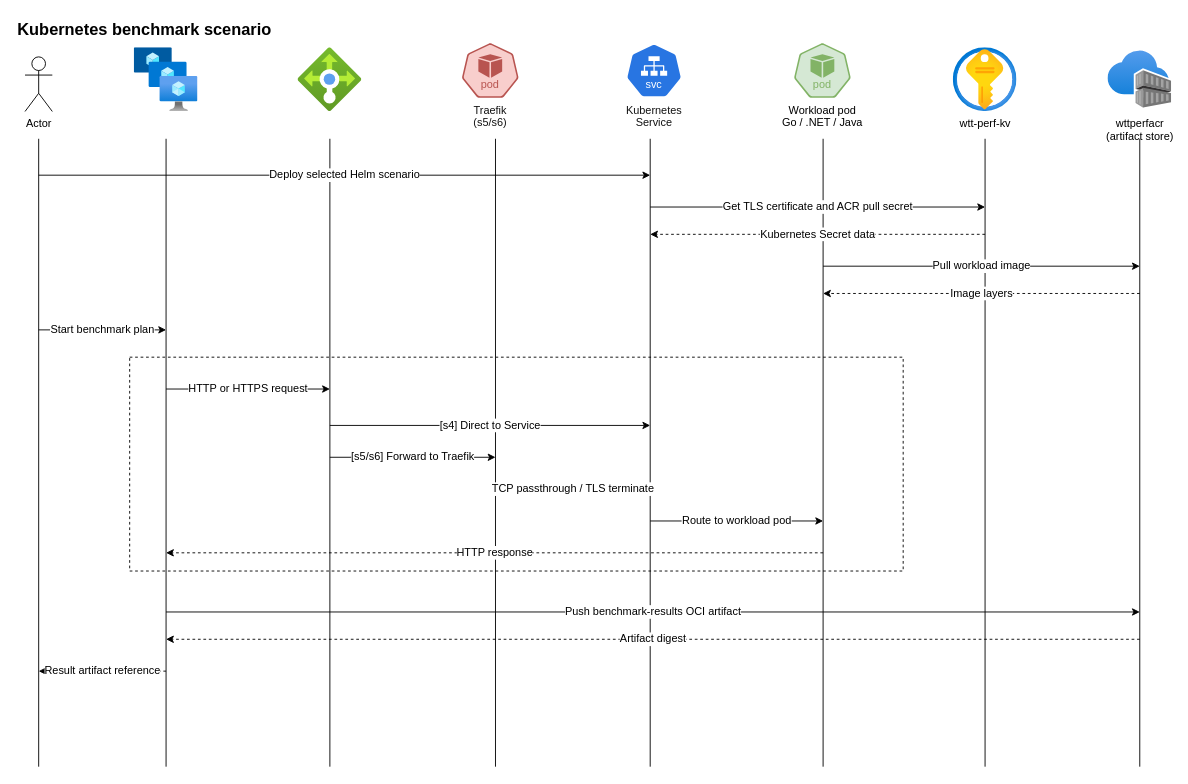
The diagram is 1188 pixels wide and 784 high, and some of its shapes have lost their labels. Each missing label, with the centre of its shape:
"Azure internal LB" goes at (329,79).
"loop: each scheduled k6 request" goes at (516,463).
"wtt-perf-client-loadgen-vmss" goes at (165,79).
